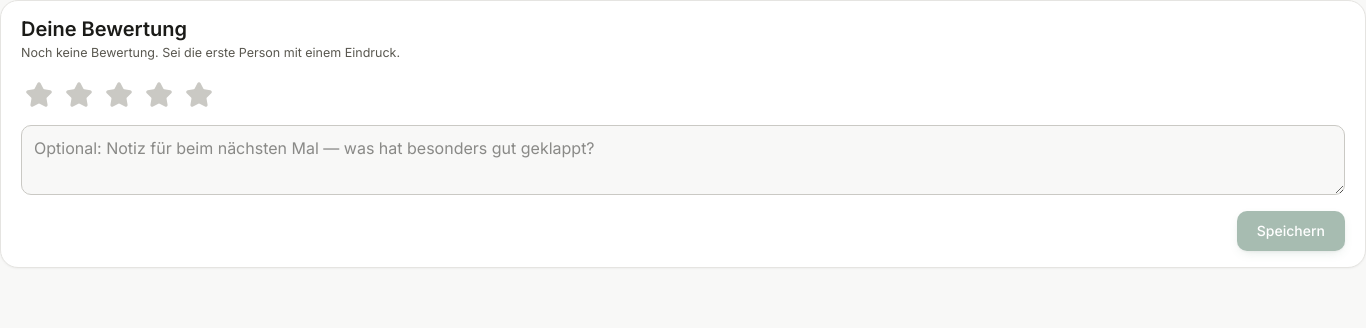
Test case: RatingWidget › surfaces a generic German fallback on 5xx upsert failures
The image size is (1366, 328).
Expected: the text "Noch keine Bewertung" is shown, [21,45,400,60]
Click the button named "5 Sterne".
click(199, 95)  # box [181,77,217,113]
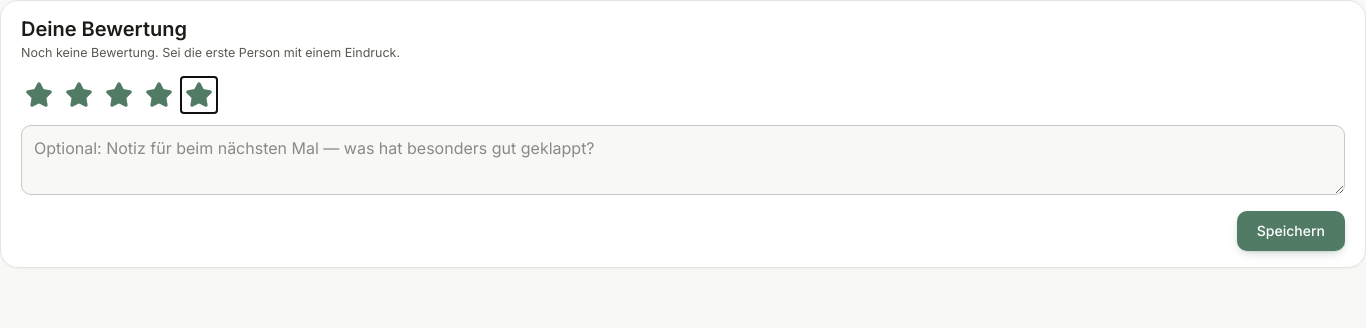
Click the button "Speichern".
click(1291, 231)  # box [1237,211,1345,251]
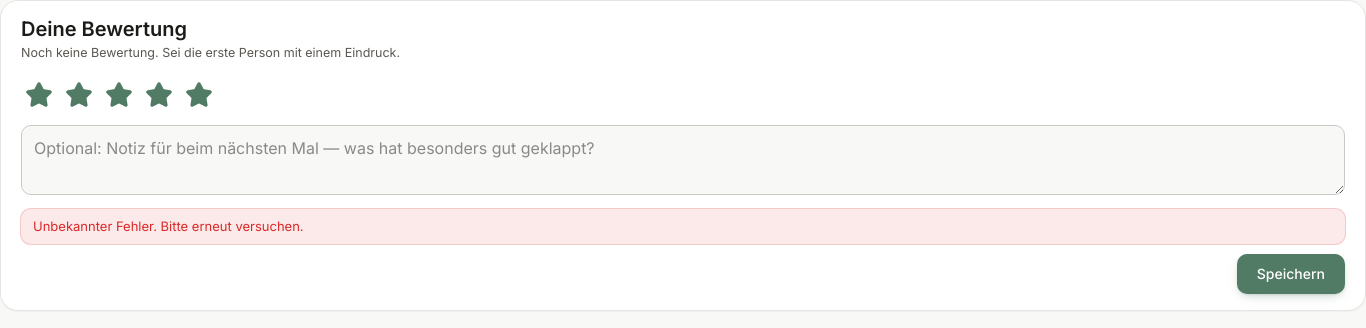
Expected: the message does not show "DbUpdateException", [21,209,1345,244]
Now the message shows "Unbekannter Fehler", box [33,218,304,234]
